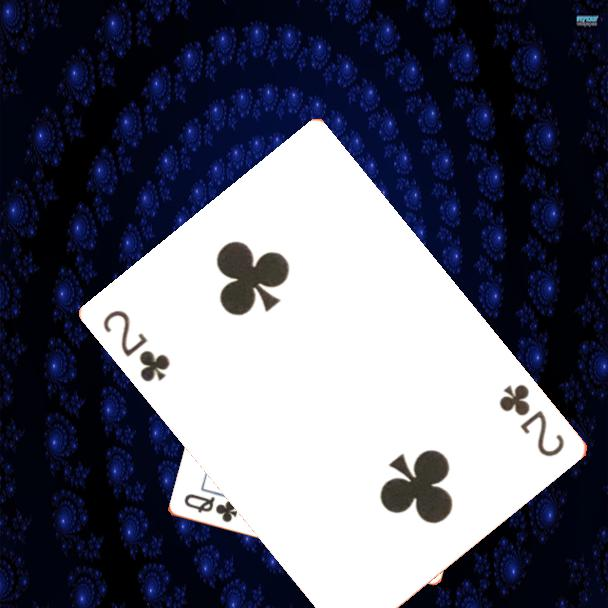c02: (100, 306, 174, 386), (495, 380, 568, 460)
c12: (180, 490, 240, 525)
